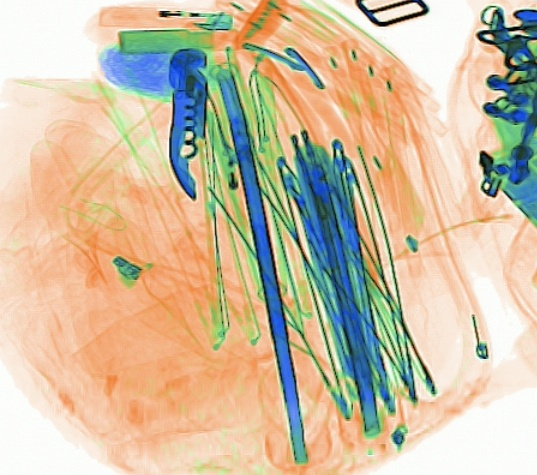lighter: (97, 1, 231, 31)
